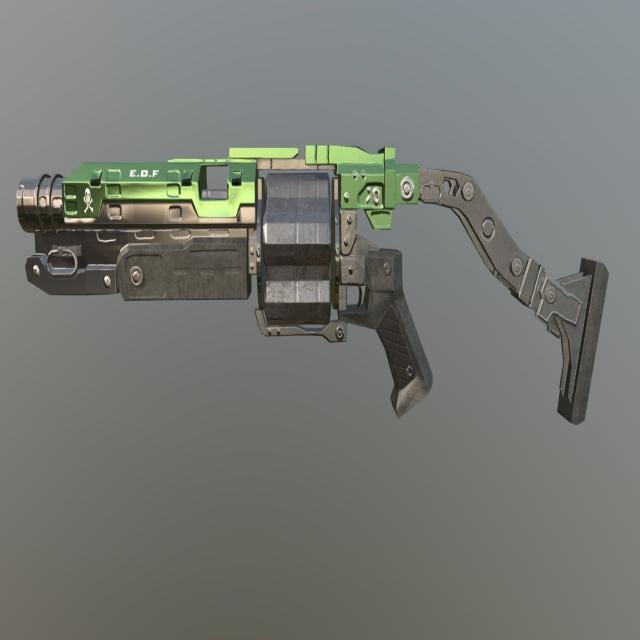rocket launcher: (12, 139, 640, 450)
